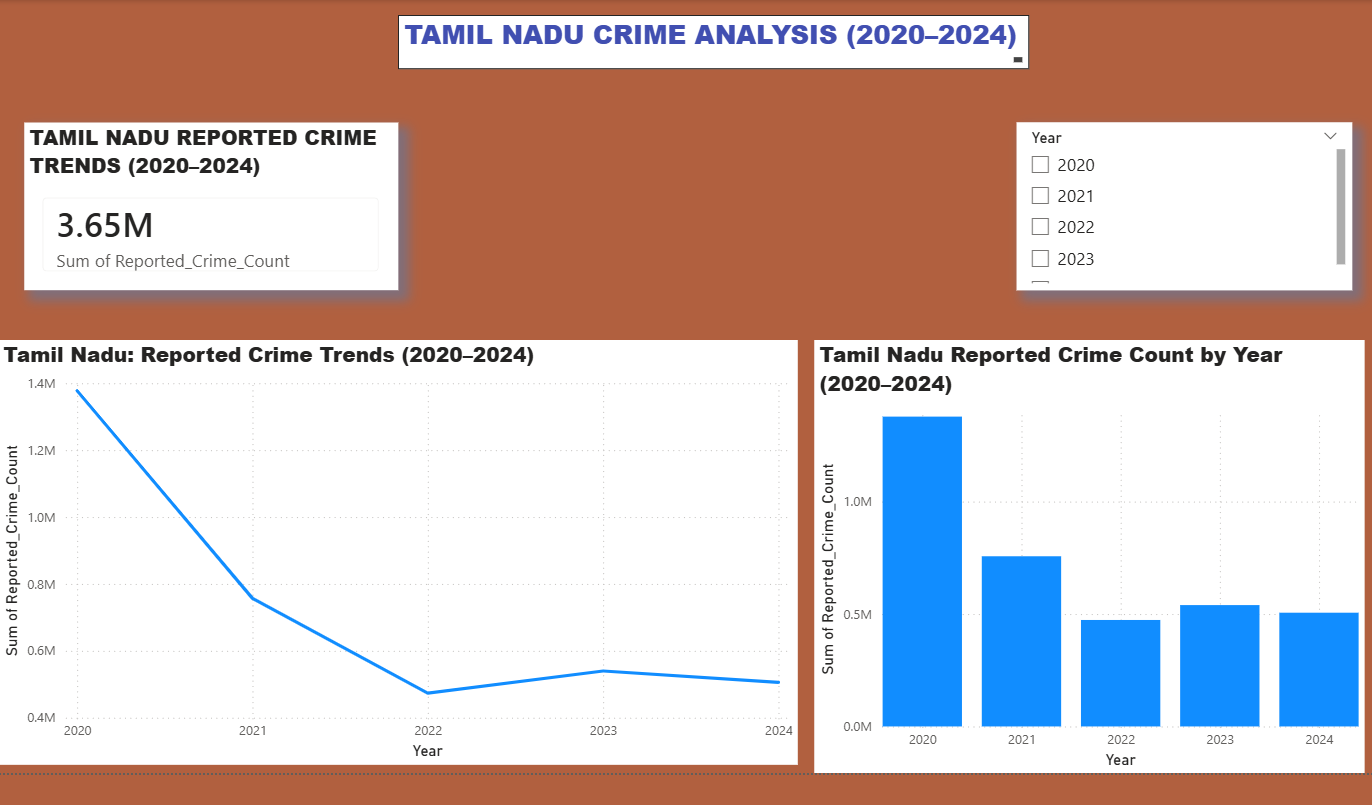

What the dashboard file says about the page in this screenshot:
{"tool":"powerbi","page":{"name":"Tamil Nadu Analysis.","canvas":[1280,720],"ordinal":1},"visuals":[{"type":"lineChart","title":"Tamil Nadu: Reported Crime Trends (2020–2024)","fields":{"Y":["Sum(india_crime_analysis crime_data.Reported_Crime_Count)"],"Category":["india_crime_analysis crime_data.Year"]},"box":[16.5,259.3,743.7,446],"z":0},{"type":"textbox","title":"TAMIL NADU CRIME ANALYSIS (2020–2024)","box":[435,0,597.5,50],"z":1000},{"type":"cardVisual","title":"TAMIL NADU REPORTED CRIME TRENDS (2020–2024)","fields":{"Data":["Sum(india_crime_analysis crime_data.Reported_Crime_Count)"]},"box":[138.8,72.5,347.5,155],"z":2000},{"type":"clusteredColumnChart","title":"Tamil Nadu Reported Crime Count by Year (2020–2024)","fields":{"Category":["india_crime_analysis crime_data.Year"],"Y":["Sum(india_crime_analysis crime_data.Reported_Crime_Count)"]},"box":[784.9,259.3,495.4,446],"z":3000},{"type":"slicer","fields":{"Values":["india_crime_analysis crime_data.Year"]},"box":[897.5,72.5,311.2,142.5],"z":4000}]}

Visuals, with their boxes on the page's 1280x720 design canvas (x1, y1, x2, y2). These are canvas units, not pixel positions in the 1372x805 screenshot, which may show the page scaled, cropped or inside an application window:
"Tamil Nadu: Reported Crime Trends (2020–2024)" lineChart: [x1=16, y1=259, x2=760, y2=705]
"TAMIL NADU CRIME ANALYSIS (2020–2024)" textbox: [x1=435, y1=0, x2=1032, y2=50]
"TAMIL NADU REPORTED CRIME TRENDS (2020–2024)" cardVisual: [x1=139, y1=72, x2=486, y2=228]
"Tamil Nadu Reported Crime Count by Year (2020–2024)" clusteredColumnChart: [x1=785, y1=259, x2=1280, y2=705]
slicer - india_crime_analysis crime_data.Year: [x1=898, y1=72, x2=1209, y2=215]
